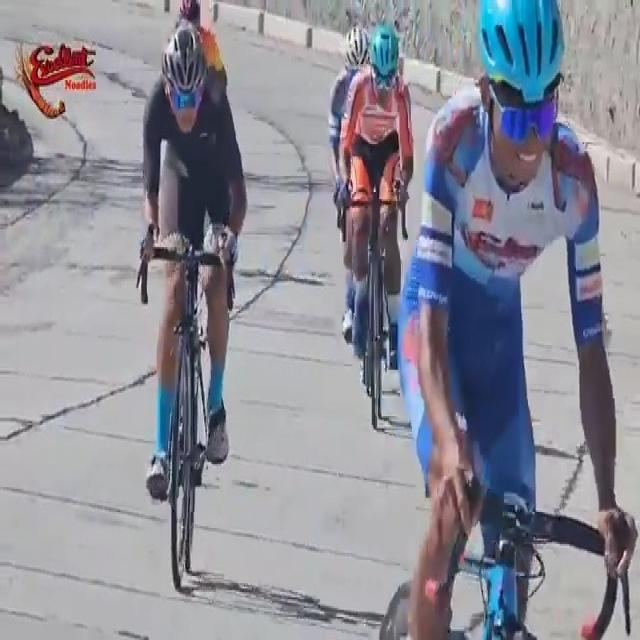bike: (398, 1, 640, 640), (140, 22, 244, 588), (342, 32, 406, 440)
